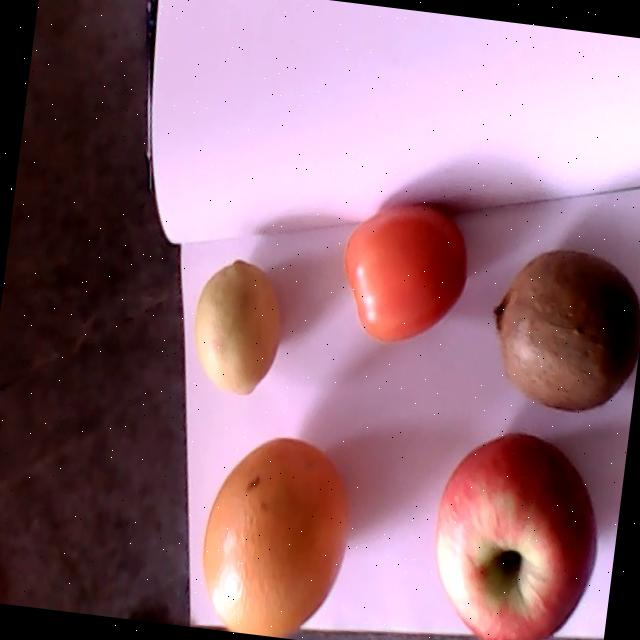apple: (435, 431, 596, 640)
kiwi: (491, 248, 640, 409)
lemon: (194, 260, 279, 394)
orange: (202, 438, 347, 638)
tomato: (342, 202, 467, 343)
